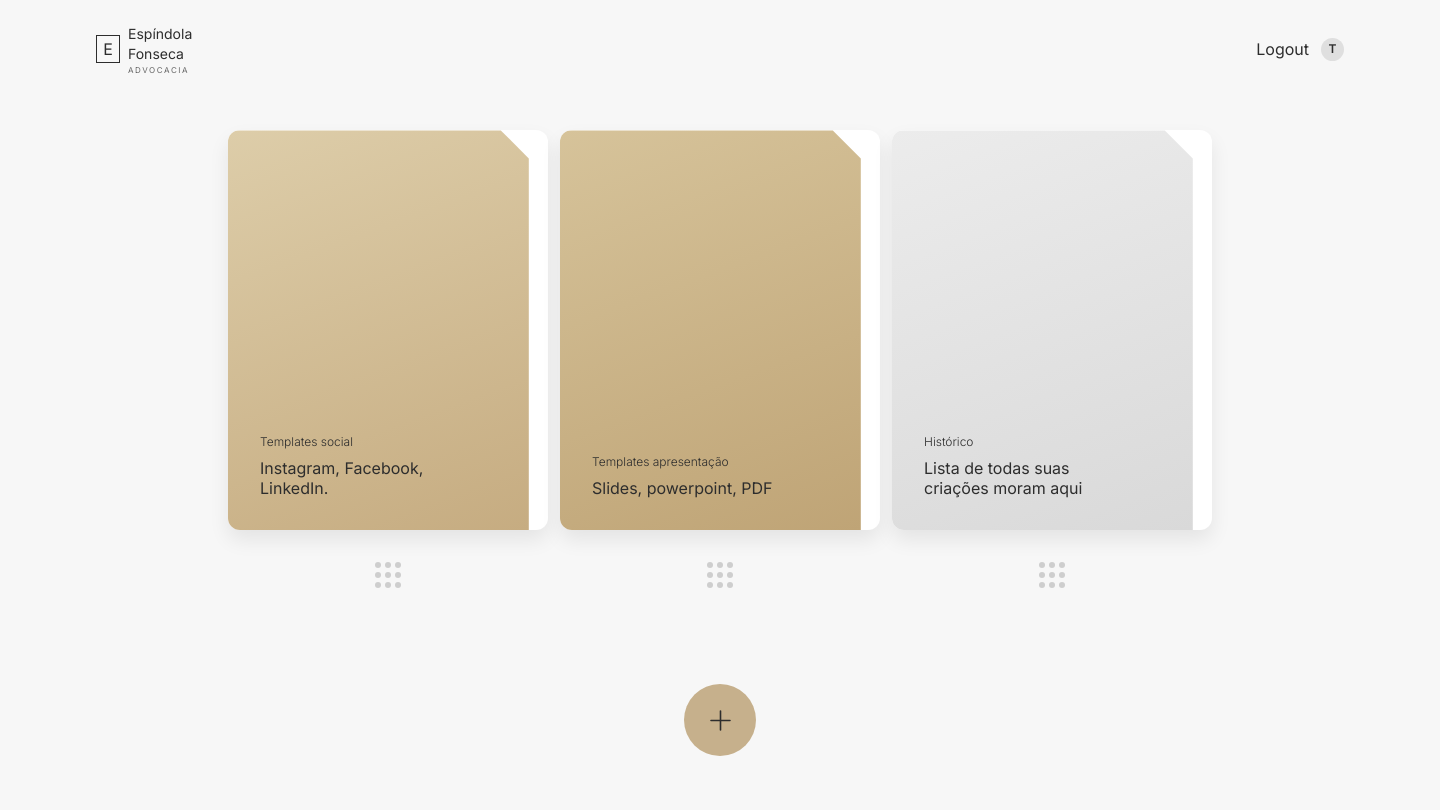
it: App shell e rotas › card da home leva para a escolha de template daquele tipo
Click the button "Templates social Instagram, Facebook, LinkedIn.": (388, 330) top-left (228, 130), bottom-right (548, 530)
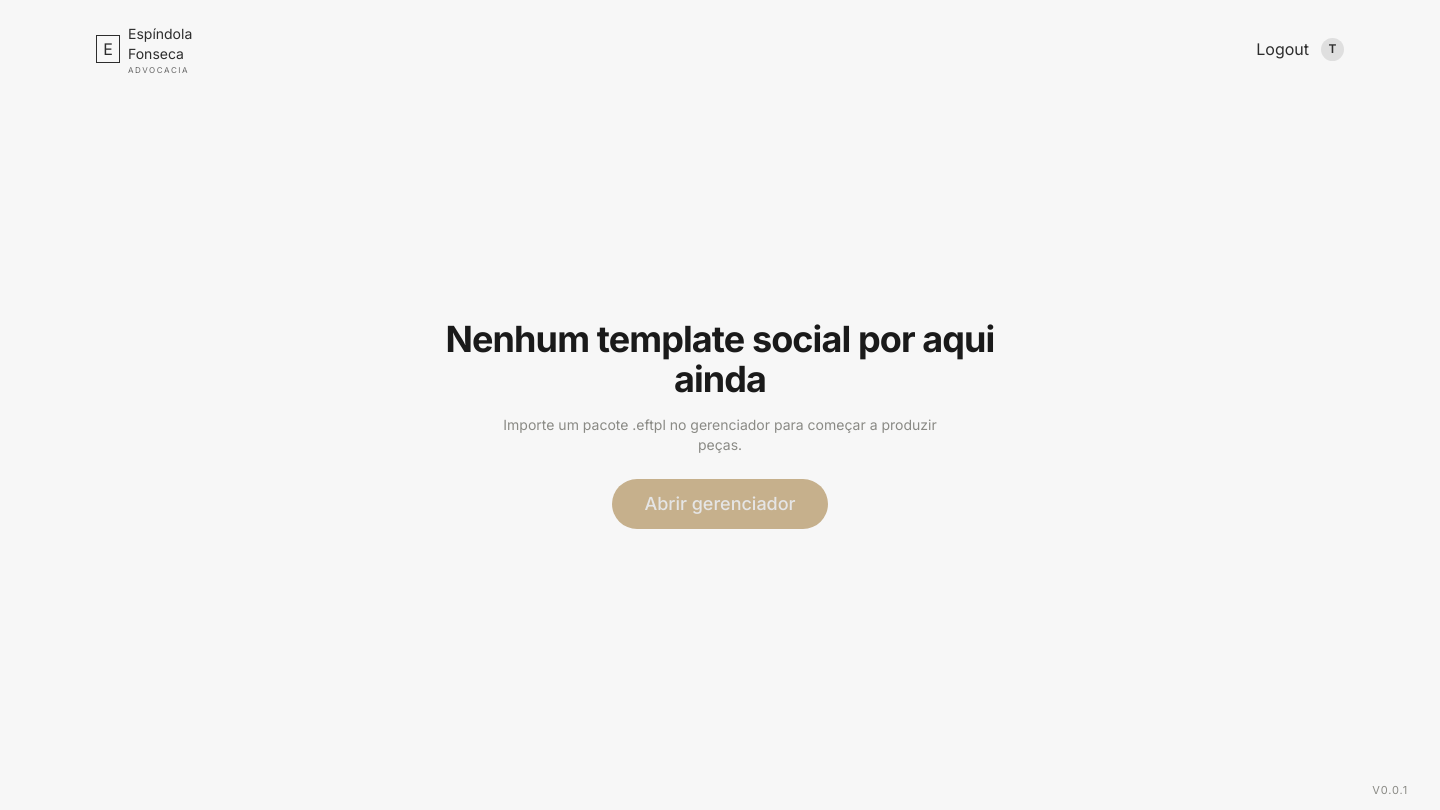
Expected: the heading shows "Nenhum template social", top-left (446, 317), bottom-right (994, 401)
